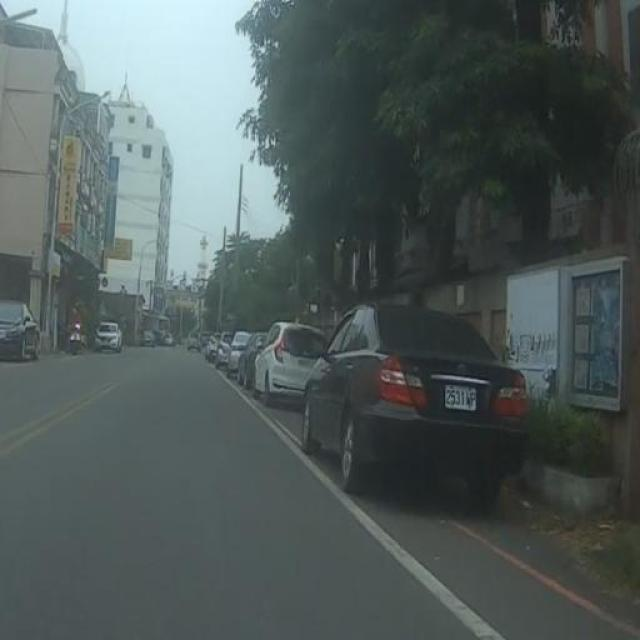Legalparking: (216, 304, 526, 509)
